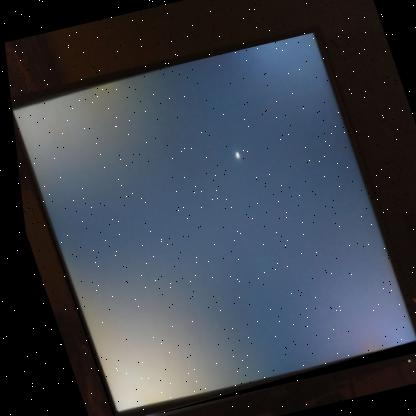fade: (2, 31, 415, 416)
